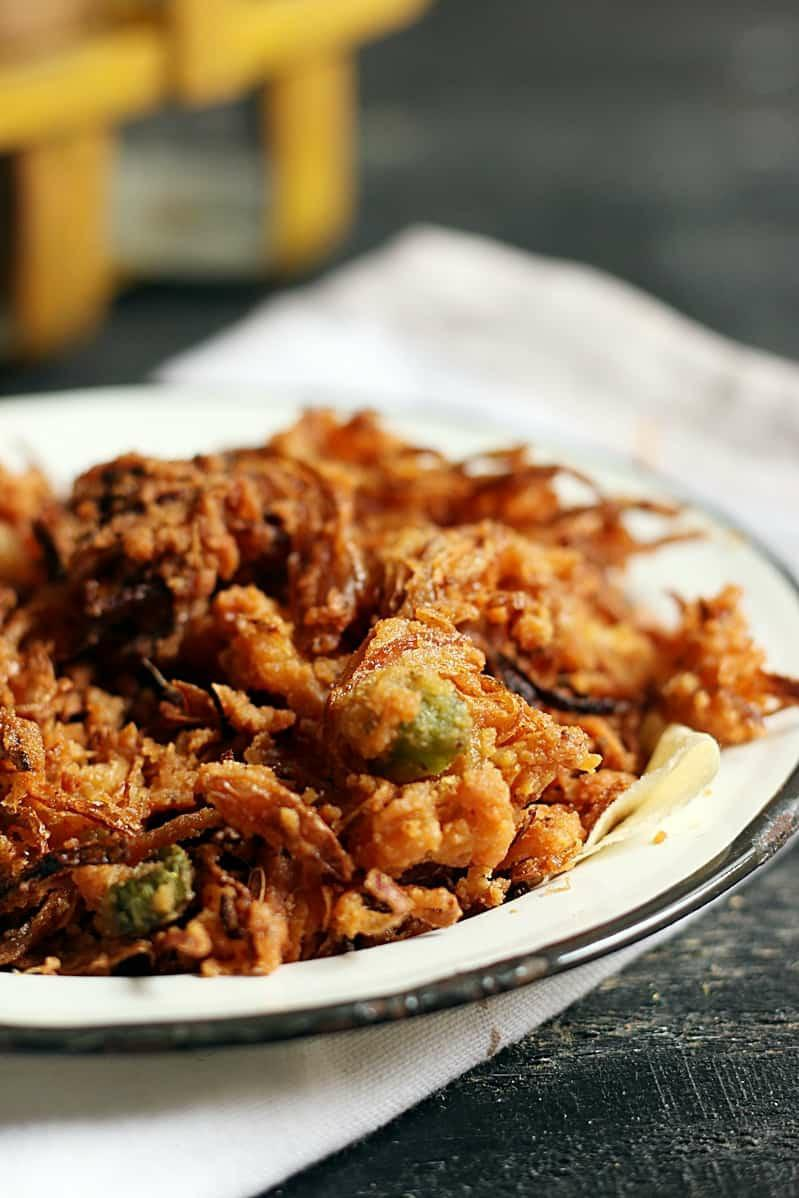OnionPakoda: (0, 399, 785, 979)
